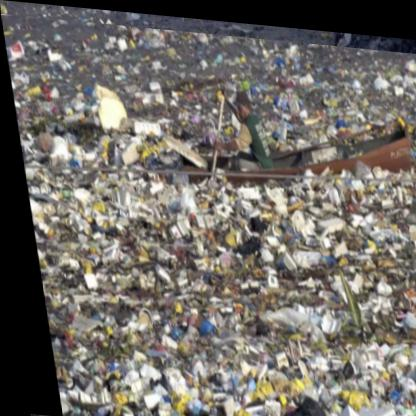Garbage: (1, 14, 416, 416)
